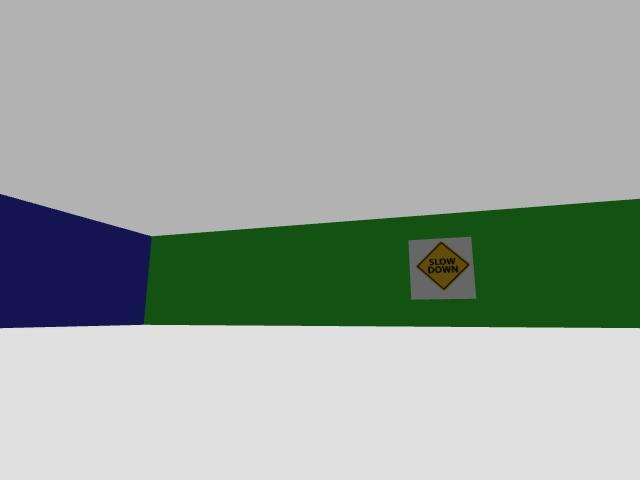slowsign: (410, 237, 475, 299)
